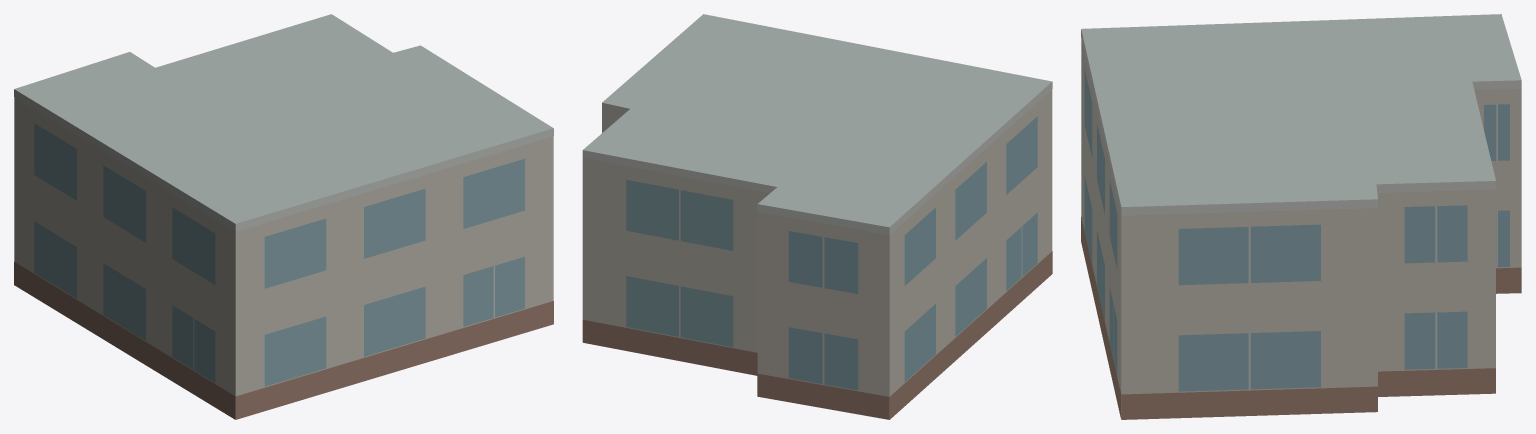
The model's file is survey-upis-32664873.glb.
3 views of the same model, side by side, from view 1: azimuth 30°, elevation 25°; view 2: azimuth 150°, elevation 25°; view 3: azimuth 270°, elevation 25° (orthographic). The views are drawn at different scales.
Visible parts, largest first — view 1: survey-upis-32664873.tmp; view 2: survey-upis-32664873.tmp; view 3: survey-upis-32664873.tmp.
Boxes of the visible parts, <box> form: survey-upis-32664873.tmp: <box>14,14,553,419</box>; survey-upis-32664873.tmp: <box>582,14,1052,419</box>; survey-upis-32664873.tmp: <box>1081,14,1521,419</box>.
Size of the model in its own units: 11.89 by 6.1 by 11.46.
